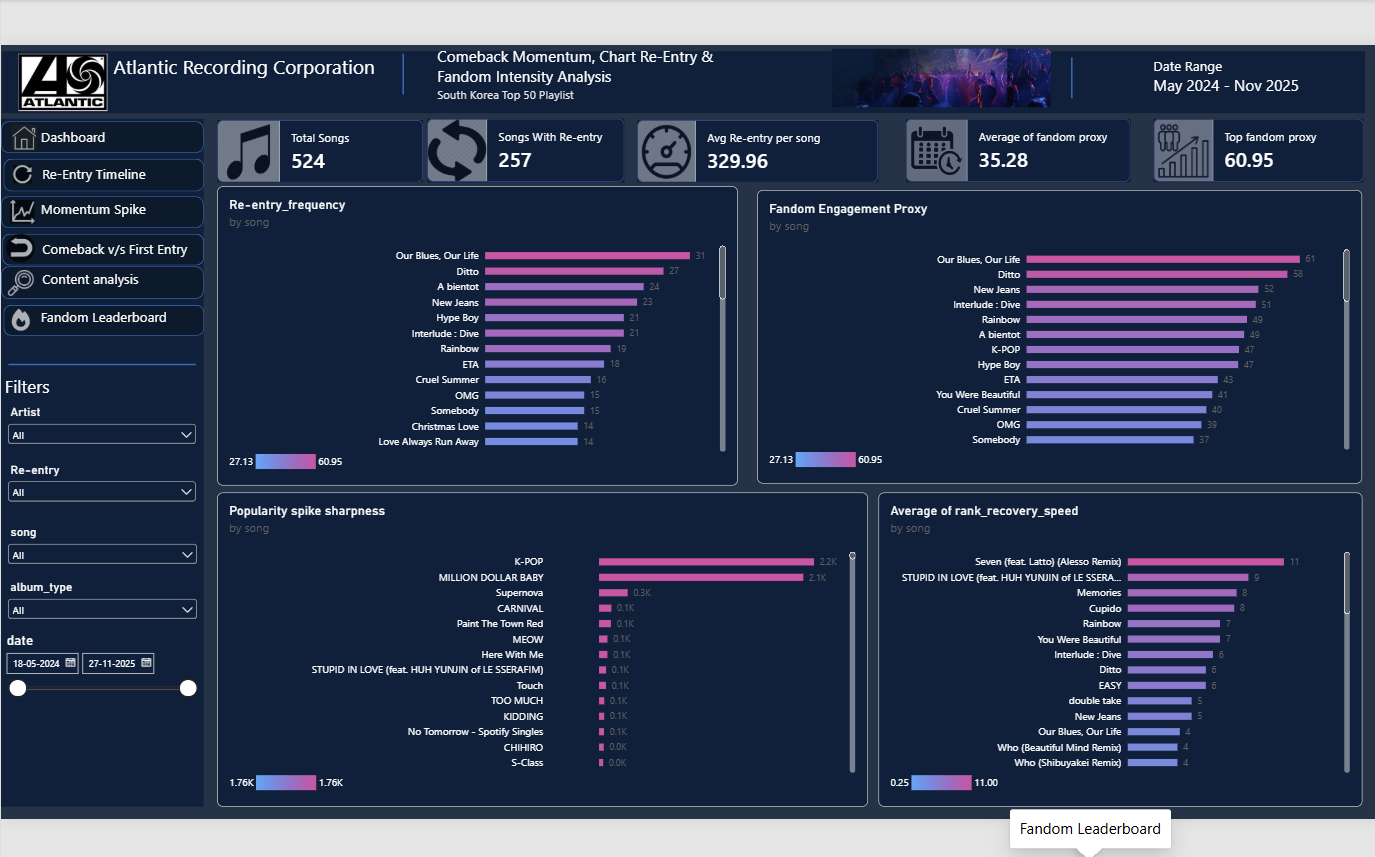

The page's visual inventory and layout, read from the dashboard file:
{"tool":"powerbi","page":{"name":"Fandom Leaderboard","canvas":[1920,1080],"ordinal":5},"visuals":[{"type":"shape","box":[0,102.9,282.9,960],"z":0},{"type":"slicer","fields":{"Values":["Atlantic_South_Korea_data_processed.artist"]},"box":[5.7,502.9,271.4,94.3],"z":1000},{"type":"slicer","fields":{"Values":["Atlantic_South_Korea_data_processed.date"]},"box":[0,820,277.1,145.7],"z":2000},{"type":"slicer","fields":{"Values":["Atlantic_South_Korea_data_processed.song"]},"box":[5.7,670,272.9,77.1],"z":3000},{"type":"slicer","fields":{"Values":["Atlantic_South_Korea_data_processed.entry_type"]},"box":[5.7,582.9,271.4,77.1],"z":4000},{"type":"cardVisual","fields":{"Data":["Avg(Fandom_Engagement_Proxy_Top50.fandom_engagement_proxy)"]},"box":[1262.8,102.9,314,89],"z":5000},{"type":"cardVisual","fields":{"Data":["Count(Atlantic_South_Korea_data_processed.song)"]},"box":[302.1,105,287.1,87.1],"z":6000},{"type":"cardVisual","fields":{"Data":["Count(Atlantic_South_Korea_data_processed.song)"]},"box":[594.8,102.9,275.6,89],"z":7000},{"type":"cardVisual","fields":{"Data":["Reentry_Frequency.avg_rentry_per_song"]},"box":[887.8,104.7,336.6,87.2],"z":8000},{"type":"cardVisual","fields":{"Data":["Max(Fandom_Engagement_Proxy_Top50.fandom_engagement_proxy)"]},"box":[1608.1,102.9,293,89],"z":9000},{"type":"slicer","fields":{"Values":["Atlantic_South_Korea_data_processed.album_type"]},"box":[5.7,747.1,272.9,72.9],"z":10000},{"type":"shape","box":[1.7,8.3,1901.7,86.7],"z":11000},{"type":"image","box":[15,11.7,141.7,80],"z":12000},{"type":"textbox","box":[156.7,11.7,406.7,80],"z":13000},{"type":"shape","box":[533.3,11.7,55,56.7],"z":14000},{"type":"shape","box":[1480,18,26.7,56.7],"z":15000},{"type":"textbox","box":[608.3,0,420,86.7],"z":16000},{"type":"textbox","box":[1608.3,15,260,71.7],"z":17000},{"type":"image","box":[1076.7,5,471.7,81.7],"z":18000},{"type":"shape","box":[0,105.7,282.9,44.3],"z":19000},{"type":"image","box":[1.2,111.2,61.2,36.2],"z":20000},{"type":"textbox","box":[55.7,115.7,202.9,34.3],"z":21000},{"type":"shape","box":[2.9,158.6,280,45.7],"z":22000},{"type":"shape","box":[0,211.4,282.9,44.3],"z":23000},{"type":"shape","box":[1.4,262.9,281.4,44.3],"z":24000},{"type":"shape","box":[0,308.6,282.9,45.7],"z":25000},{"type":"image","box":[2.9,167.1,52.9,25.7],"z":26000},{"type":"image","box":[2.9,215.7,52.9,32.9],"z":27000},{"type":"image","box":[0,262.9,55,40],"z":28000},{"type":"image","box":[0,314.3,55,36.2],"z":29000},{"type":"textbox","box":[57.5,167.5,202.3,36.6],"z":30000},{"type":"textbox","box":[55.7,215.7,202.3,36.6],"z":31000},{"type":"textbox","box":[57.1,271.4,219.8,36.6],"z":32000},{"type":"textbox","box":[57.5,313.8,202.3,36.6],"z":33000},{"type":"shape","box":[2.9,362.9,280,42.9],"z":34000},{"type":"image","box":[0,366.2,55,36.2],"z":35000},{"type":"textbox","box":[55,366.2,205,36.2],"z":36000},{"type":"textbox","box":[5.7,460,277.1,32.9],"z":37000},{"type":"shape","box":[10,430,261.4,30],"z":38000},{"type":"clusteredBarChart","fields":{"Category":["Fandom_Engagement_Proxy_Top50.song"],"Y":["Sum(Fandom_Engagement_Proxy_Top50.fandom_engagement_proxy)"]},"box":[1055.9,201.7,843.9,409.6],"z":39000},{"type":"clusteredBarChart","fields":{"Category":["Fandom_Engagement_Proxy_Top50.song"],"Y":["Sum(Reentry_Frequency.reentry_frequency)"]},"box":[302.6,197.6,726.6,417.8],"z":40000},{"type":"clusteredBarChart","fields":{"Category":["Atlantic_South_Korea_data_processed.song"],"Y":["Max(Atlantic_South_Korea_data_processed.popularity_change_rate)"]},"box":[302.6,623.7,907.7,438.4],"z":41000},{"type":"clusteredBarChart","fields":{"Category":["Fandom_Engagement_Proxy_Top50.song"],"Y":["Avg(Fandom_Engagement_Proxy_Top50.rank_recovery_speed)"]},"box":[1224.7,623.7,675.1,438.4],"z":42000}]}

Visuals, with their boxes on the page's 1920x1080 design canvas (x1, y1, x2, y2). These are canvas units, not pixel positions in the 1375x857 screenshot, which may show the page scaled, cropped or inside an application window:
shape: [0, 103, 283, 1063]
slicer - Atlantic_South_Korea_data_processed.artist: [6, 503, 277, 597]
slicer - Atlantic_South_Korea_data_processed.date: [0, 820, 277, 966]
slicer - Atlantic_South_Korea_data_processed.song: [6, 670, 279, 747]
slicer - Atlantic_South_Korea_data_processed.entry_type: [6, 583, 277, 660]
cardVisual - Avg(Fandom_Engagement_Proxy_Top50.fandom_engagement_proxy): [1263, 103, 1577, 192]
cardVisual - Count(Atlantic_South_Korea_data_processed.song): [302, 105, 589, 192]
cardVisual - Count(Atlantic_South_Korea_data_processed.song): [595, 103, 870, 192]
cardVisual - Reentry_Frequency.avg_rentry_per_song: [888, 105, 1224, 192]
cardVisual - Max(Fandom_Engagement_Proxy_Top50.fandom_engagement_proxy): [1608, 103, 1901, 192]
slicer - Atlantic_South_Korea_data_processed.album_type: [6, 747, 279, 820]
shape: [2, 8, 1903, 95]
image: [15, 12, 157, 92]
textbox: [157, 12, 563, 92]
shape: [533, 12, 588, 68]
shape: [1480, 18, 1507, 75]
textbox: [608, 0, 1028, 87]
textbox: [1608, 15, 1868, 87]
image: [1077, 5, 1548, 87]
shape: [0, 106, 283, 150]
image: [1, 111, 62, 147]
textbox: [56, 116, 259, 150]
shape: [3, 159, 283, 204]
shape: [0, 211, 283, 256]
shape: [1, 263, 283, 307]
shape: [0, 309, 283, 354]
image: [3, 167, 56, 193]
image: [3, 216, 56, 249]
image: [0, 263, 55, 303]
image: [0, 314, 55, 350]
textbox: [58, 168, 260, 204]
textbox: [56, 216, 258, 252]
textbox: [57, 271, 277, 308]
textbox: [58, 314, 260, 350]
shape: [3, 363, 283, 406]
image: [0, 366, 55, 402]
textbox: [55, 366, 260, 402]
textbox: [6, 460, 283, 493]
shape: [10, 430, 271, 460]
clusteredBarChart - Fandom_Engagement_Proxy_Top50.song x Sum(Fandom_Engagement_Proxy_Top50.fandom_engagement_proxy): [1056, 202, 1900, 611]
clusteredBarChart - Fandom_Engagement_Proxy_Top50.song x Sum(Reentry_Frequency.reentry_frequency): [303, 198, 1029, 615]
clusteredBarChart - Atlantic_South_Korea_data_processed.song x Max(Atlantic_South_Korea_data_processed.popularity_change_rate): [303, 624, 1210, 1062]
clusteredBarChart - Fandom_Engagement_Proxy_Top50.song x Avg(Fandom_Engagement_Proxy_Top50.rank_recovery_speed): [1225, 624, 1900, 1062]
